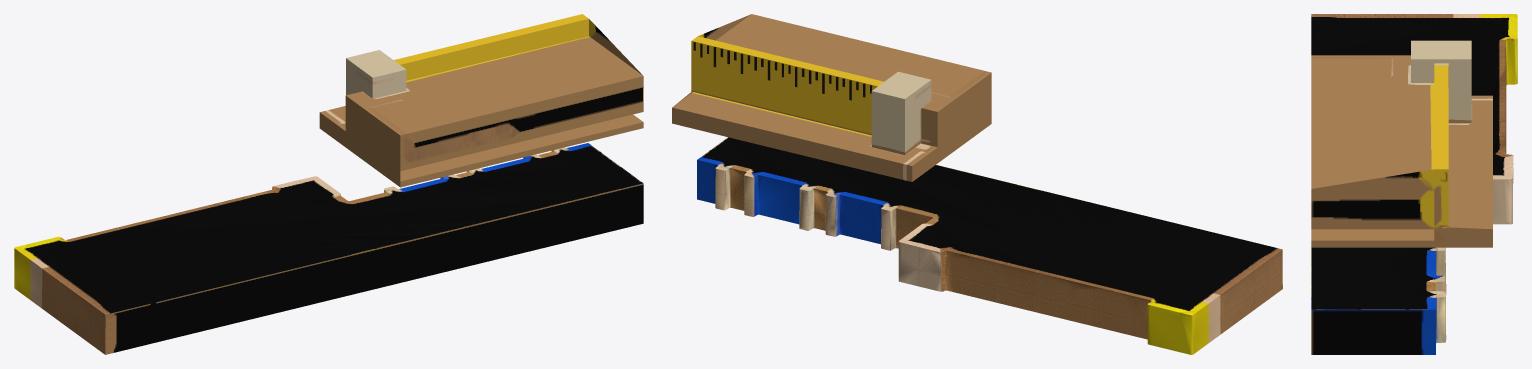
The model's file is 11-roof-back-left.fbx.
3 views of the same model, side by side, from view 1: azimuth 30°, elevation 25°; view 2: azimuth 150°, elevation 25°; view 3: azimuth 270°, elevation 25° (orthographic). The views are drawn at different scales.
Parts seen in each view (by area): view 1: roof-back-left; view 2: roof-back-left; view 3: roof-back-left.
Boxes of the visible parts, x1=… form: roof-back-left: x1=14, y1=14, x2=643, y2=354; roof-back-left: x1=672, y1=14, x2=1282, y2=354; roof-back-left: x1=1311, y1=14, x2=1517, y2=354.
Bounding box in the file's own units: 10401 × 3113 × 3071.
1 material, 1 textured.
